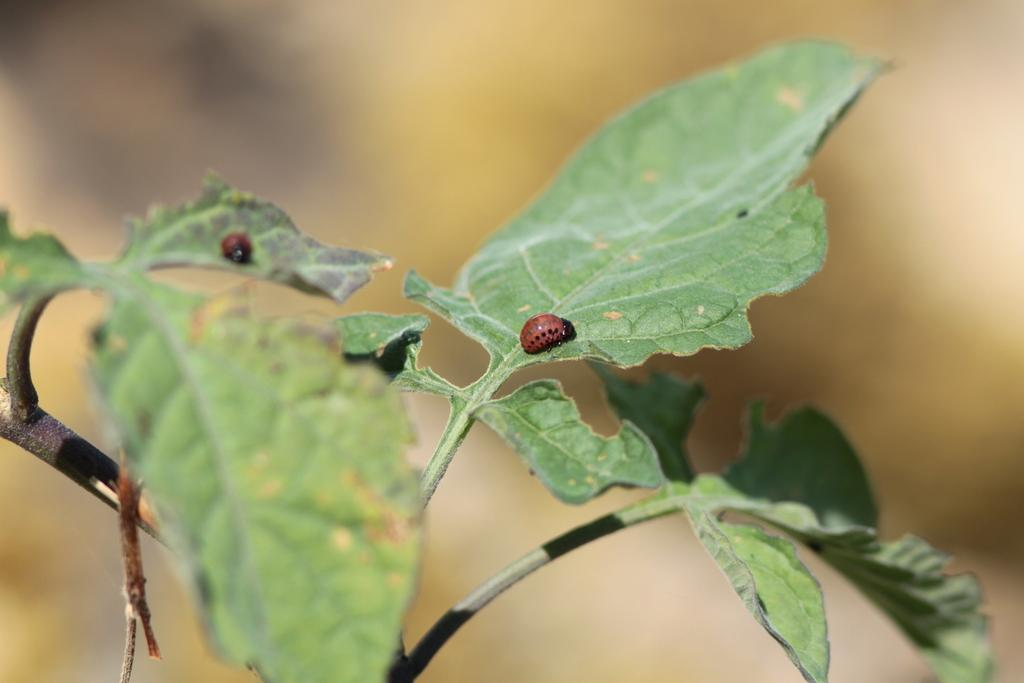potato_beetle: (508, 299, 582, 371)
